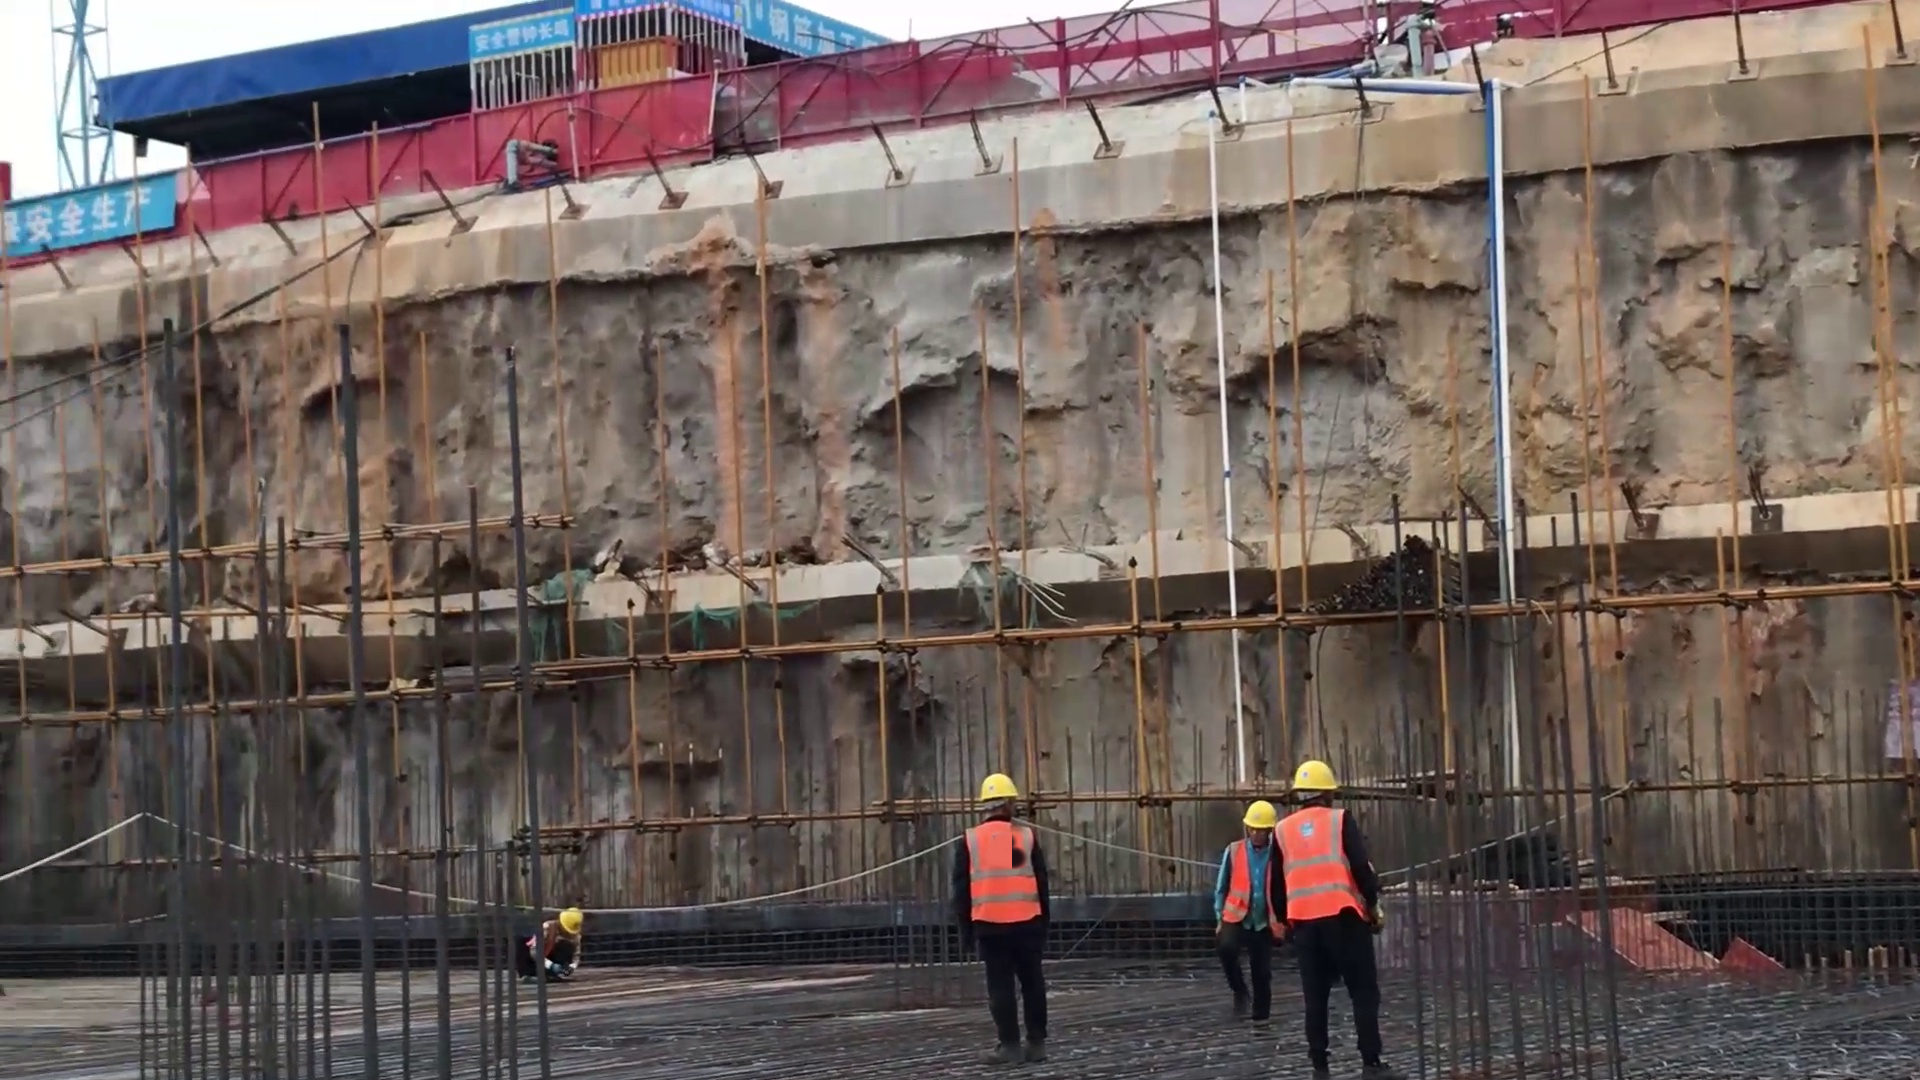helmet: (1290, 760, 1337, 798), (1240, 792, 1277, 834), (978, 767, 1017, 802), (559, 901, 586, 936)
person: (1265, 756, 1400, 1080), (950, 772, 1054, 1065), (1210, 800, 1276, 1040), (519, 904, 586, 988)
slogan: (12, 173, 175, 234), (471, 11, 574, 46)
vest: (1274, 806, 1363, 926), (959, 819, 1043, 927), (1218, 835, 1273, 935)
